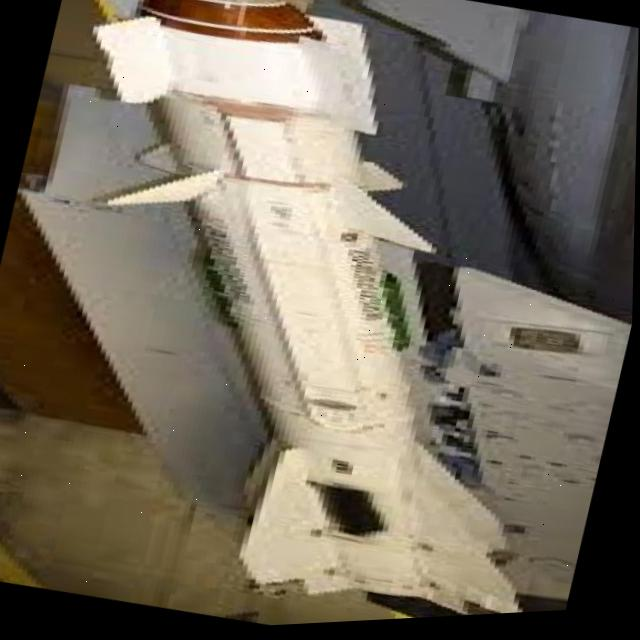missile: (13, 0, 640, 639)
